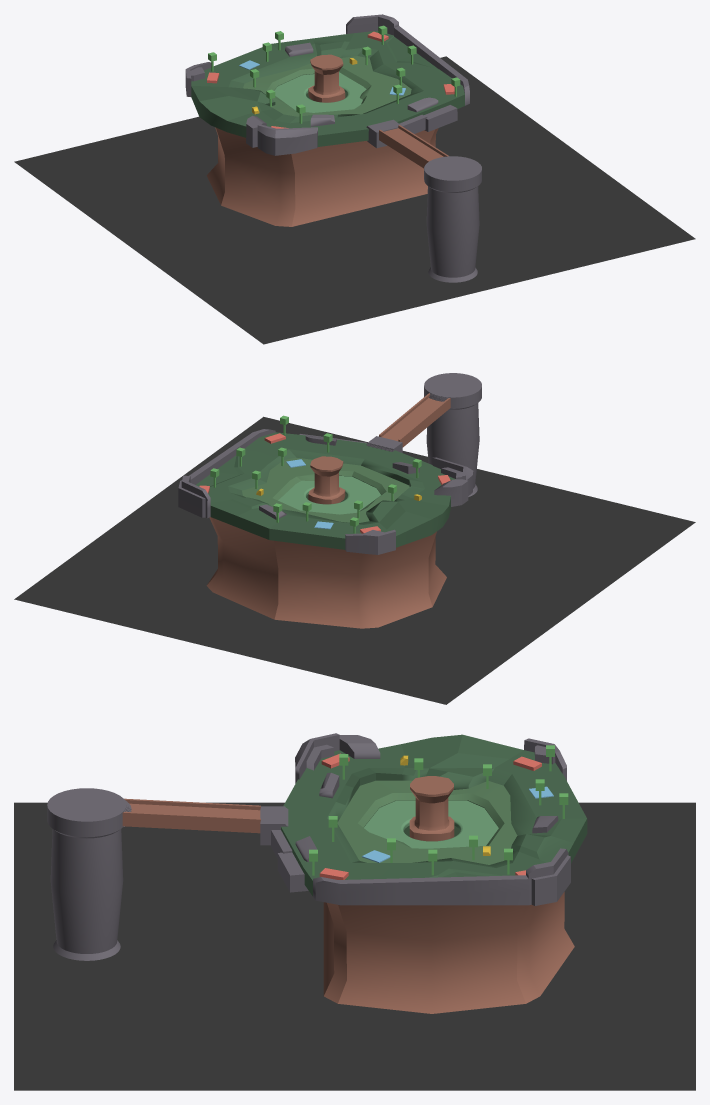
Rendered from Grey Box Version 1.fbx.
The picture shows the model from 3 angles, top to bottom: view 1: azimuth 30°, elevation 25°; view 2: azimuth 150°, elevation 25°; view 3: azimuth 270°, elevation 25°; orthographic projection. The views are drawn at different scales.
Parts seen in each view (by area): view 1: Void, Under Map, Upper Level, Rocks Placement, Platform Placement, Middle Level, Lower Level, Boss Placement, Bridge Placement, Tree Placement; view 2: Void, Under Map, Upper Level, Rocks Placement, Platform Placement, Middle Level, Lower Level, Bridge Placement, Boss Placement, Tree Placement; view 3: Void, Under Map, Upper Level, Rocks Placement, Platform Placement, Middle Level, Bridge Placement, Lower Level, Boss Placement, Tree Placement, Objective Placement.
Boxes of the visible parts, x1,y1,x2,y2 form: Void: [14, 56, 695, 344]; Under Map: [206, 127, 438, 226]; Upper Level: [191, 30, 464, 146]; Rocks Placement: [185, 14, 469, 155]; Platform Placement: [424, 156, 481, 282]; Middle Level: [243, 56, 411, 116]; Lower Level: [274, 72, 366, 112]; Boss Placement: [308, 54, 345, 102]; Bridge Placement: [379, 125, 448, 168]; Tree Placement: [208, 25, 460, 123]; Void: [14, 416, 695, 704]; Under Map: [206, 517, 446, 628]; Upper Level: [196, 432, 455, 549]; Rocks Placement: [178, 429, 473, 554]; Platform Placement: [424, 373, 481, 496]; Middle Level: [242, 457, 409, 522]; Lower Level: [278, 476, 380, 514]; Bridge Placement: [379, 393, 450, 447]; Boss Placement: [308, 456, 345, 504]; Tree Placement: [210, 415, 421, 533]; Void: [14, 802, 695, 1090]; Under Map: [323, 892, 574, 1013]; Upper Level: [281, 734, 587, 896]; Rocks Placement: [260, 733, 570, 905]; Platform Placement: [47, 788, 131, 960]; Middle Level: [337, 780, 517, 864]; Bridge Placement: [122, 798, 260, 833]; Lower Level: [364, 800, 498, 848]; Boss Placement: [409, 776, 454, 841]; Tree Placement: [309, 745, 568, 875]; Objective Placement: [319, 753, 541, 879].
Size of the model in its own units: 23819 by 6520 by 23819.
